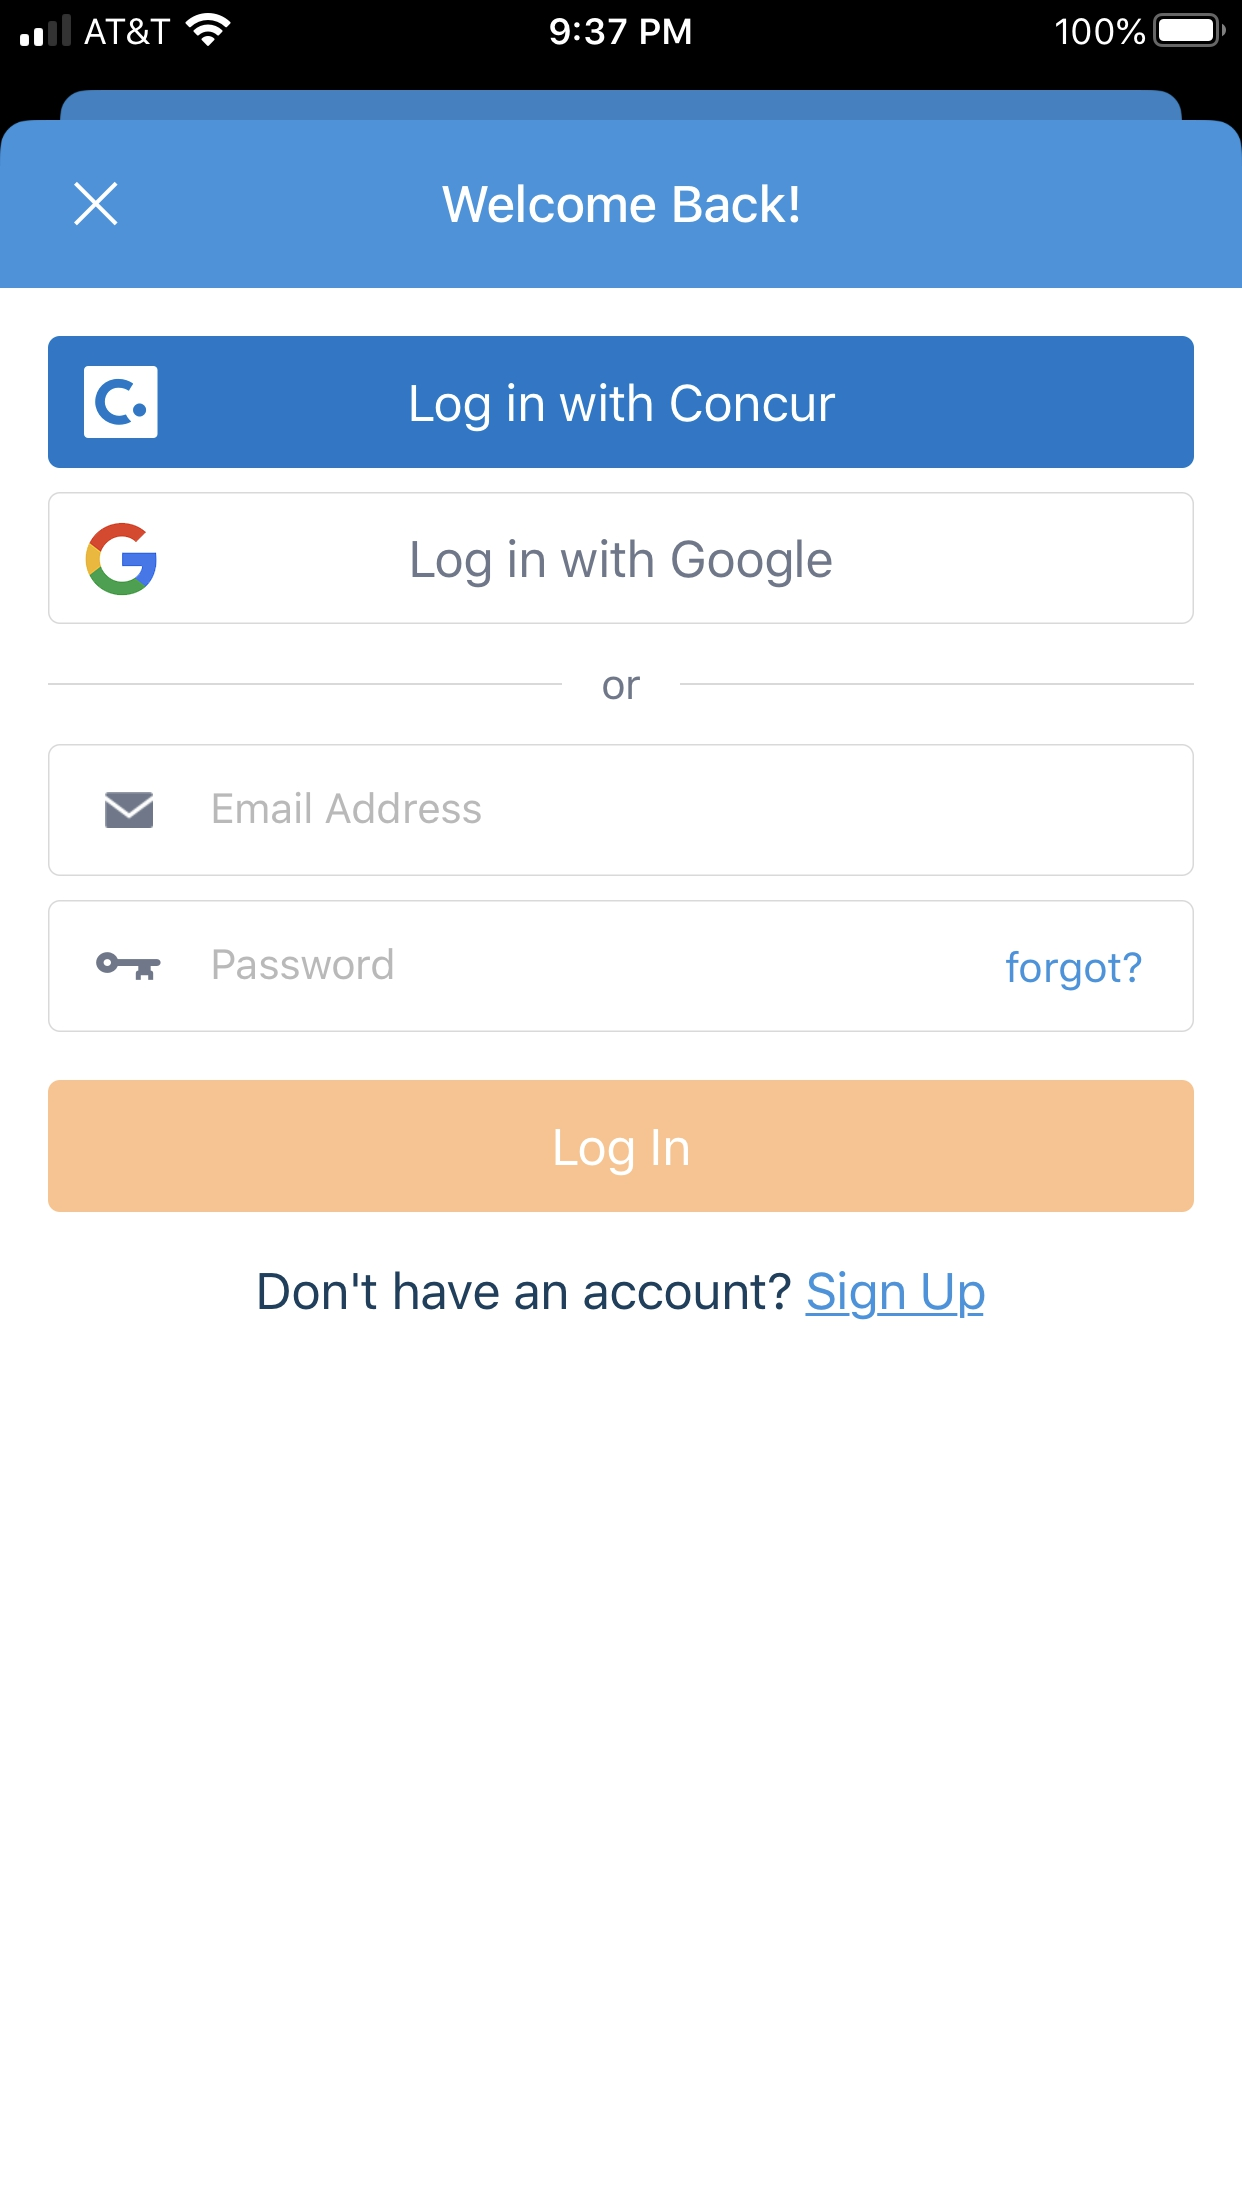EditText: (49, 899, 1193, 1033), (49, 745, 1193, 877)
Icon: (74, 183, 118, 227), (105, 792, 155, 828), (96, 952, 161, 980)
Text: (259, 1271, 986, 1319), (441, 183, 798, 224), (212, 792, 481, 823), (212, 948, 393, 980), (1007, 951, 1140, 990), (604, 676, 640, 701)
TextButton: (49, 1081, 1193, 1213), (49, 491, 1193, 623), (49, 337, 1193, 469)
UpperTaskBar: (2, 2, 1242, 47)
